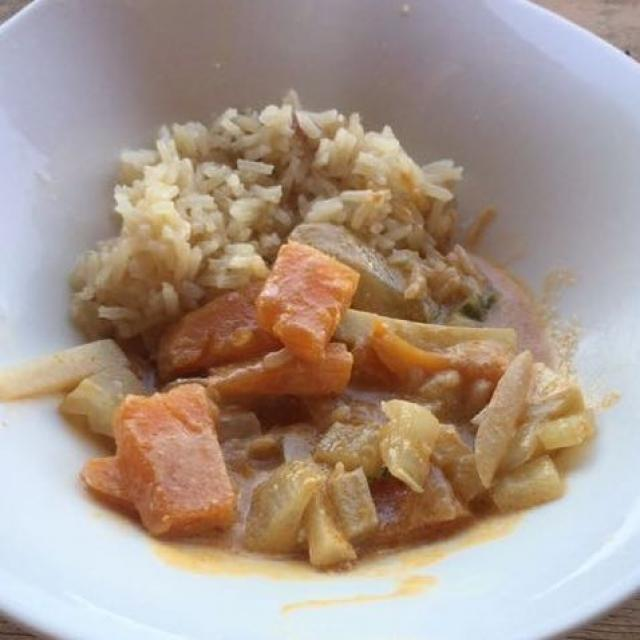curry-vegetarian: (47, 221, 609, 562)
rice: (90, 70, 489, 344)
